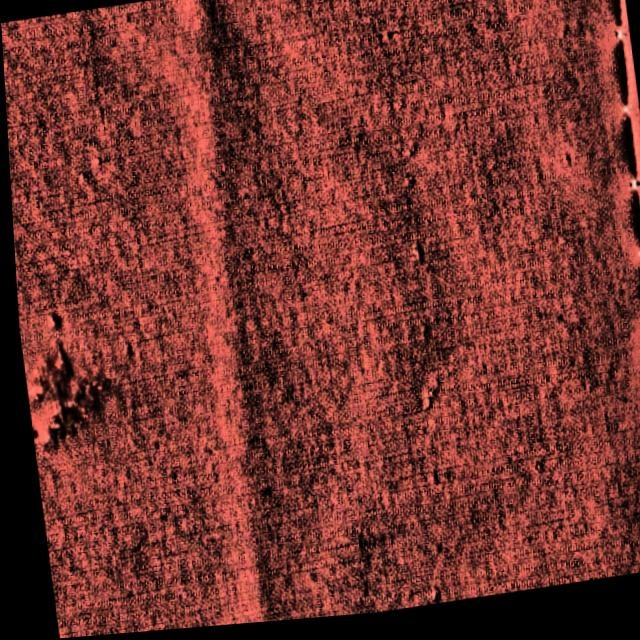Hole: (6, 292, 131, 476)
